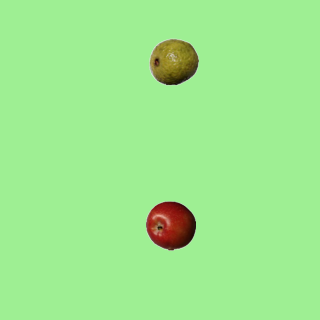Apple Braeburn: (145, 200, 195, 250)
Guava: (148, 36, 198, 86)
